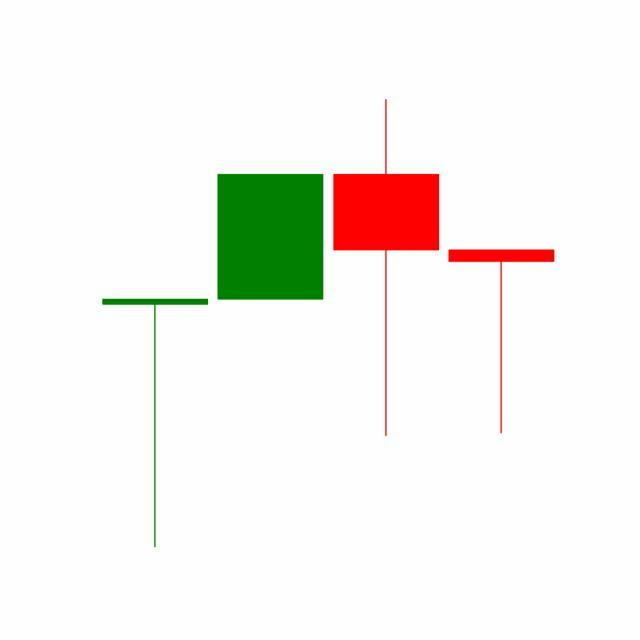Dragonfly Doji: (444, 249, 560, 437)
